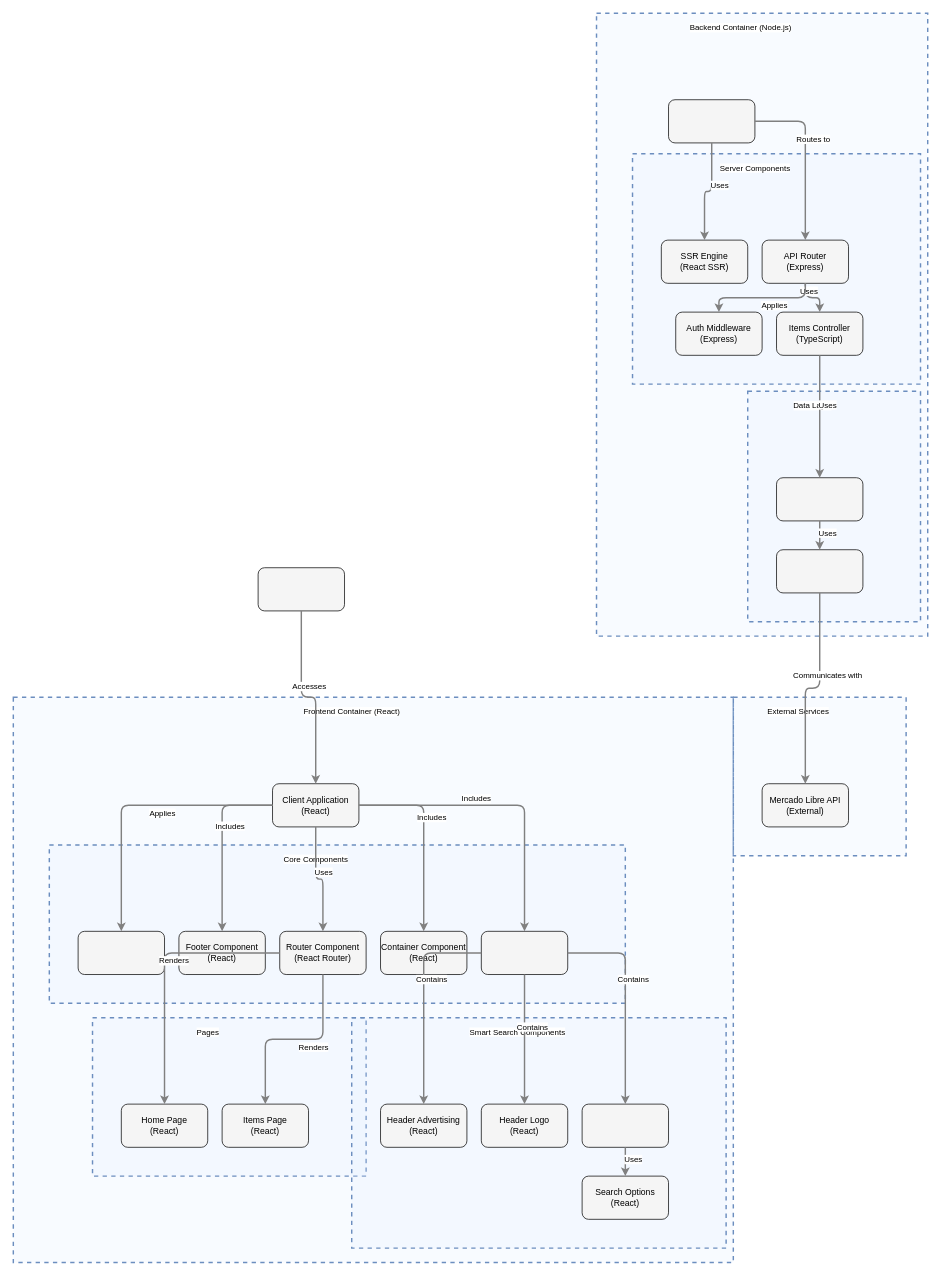
This 940x1275 diagram has some shape labels left out. Each missing label, with the centre of its shape:
Express Server (Node.js): point 711,121
External User: point 301,589
Global Styles (Styled Components): point 121,953
Header Search (React): point 625,1125
HTTP Adapter (Axios): point 819,571
ORM Layer (Custom ORM): point 819,499
Smart Search Component (React/TypeScript): point 524,953
